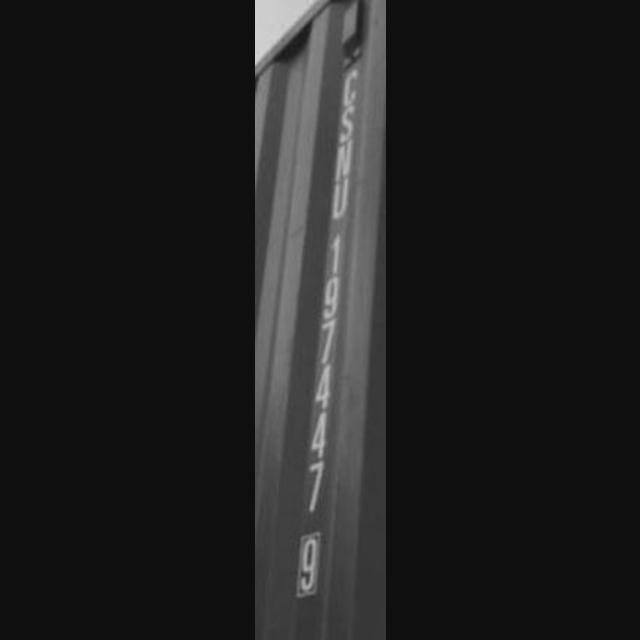1: (320, 228, 350, 280)
4: (308, 364, 342, 418), (303, 412, 335, 464)
7: (300, 459, 332, 515), (310, 320, 342, 368)
9: (292, 530, 324, 596), (311, 274, 351, 322)
c: (334, 63, 368, 107)
n: (326, 140, 359, 182)
s: (328, 104, 364, 148)
u: (324, 176, 360, 226)
